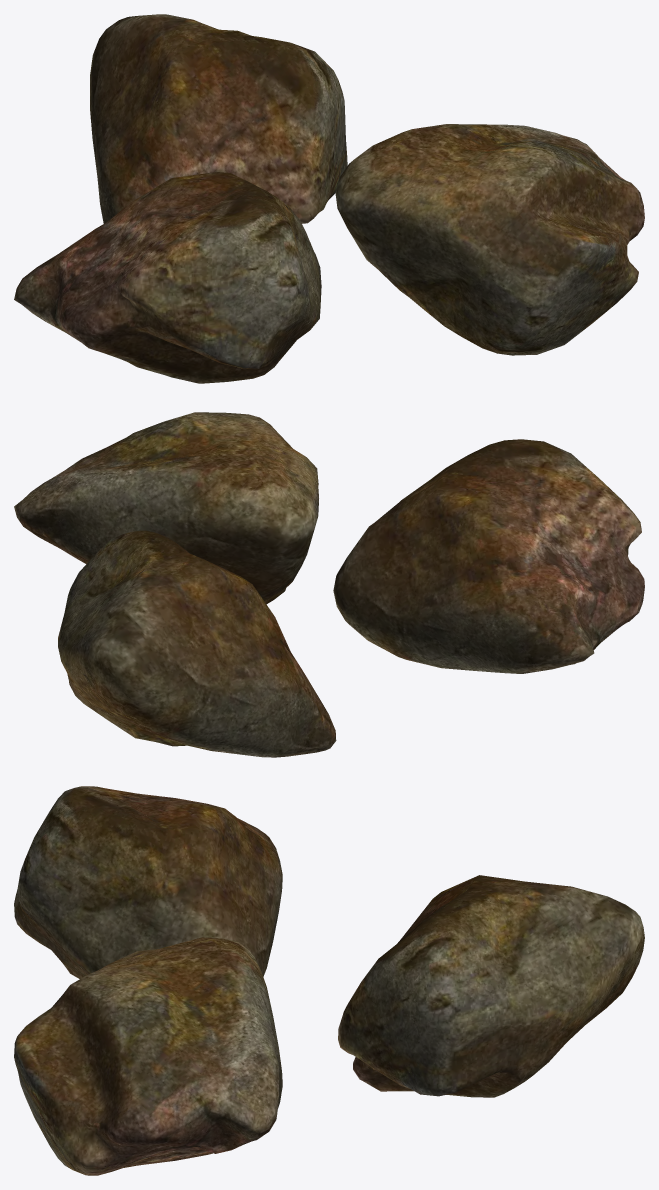
Rendered from river_rock.glb.
The picture shows the model from 3 angles, top to bottom: view 1: azimuth 30°, elevation 25°; view 2: azimuth 150°, elevation 25°; view 3: azimuth 270°, elevation 25°; orthographic projection. The views are drawn at different scales.
Parts seen in each view (by area): view 1: RiverRock1, RiverRock, RiverRock2; view 2: RiverRock, RiverRock2, RiverRock1; view 3: RiverRock1, RiverRock2, RiverRock.
Part boxes in pixels (box(x1,y1,x2,y2)): RiverRock1: box(335, 124, 644, 355); RiverRock: box(14, 172, 321, 383); RiverRock2: box(90, 14, 347, 223); RiverRock: box(333, 439, 644, 673); RiverRock2: box(58, 530, 336, 757); RiverRock1: box(14, 412, 318, 604); RiverRock1: box(14, 937, 282, 1175); RiverRock2: box(338, 875, 644, 1097); RiverRock: box(14, 786, 282, 978).
Bounding box in the file's own units: 8.23 × 2.83 × 7.5.
Materials: 1 (1 with a texture image).
